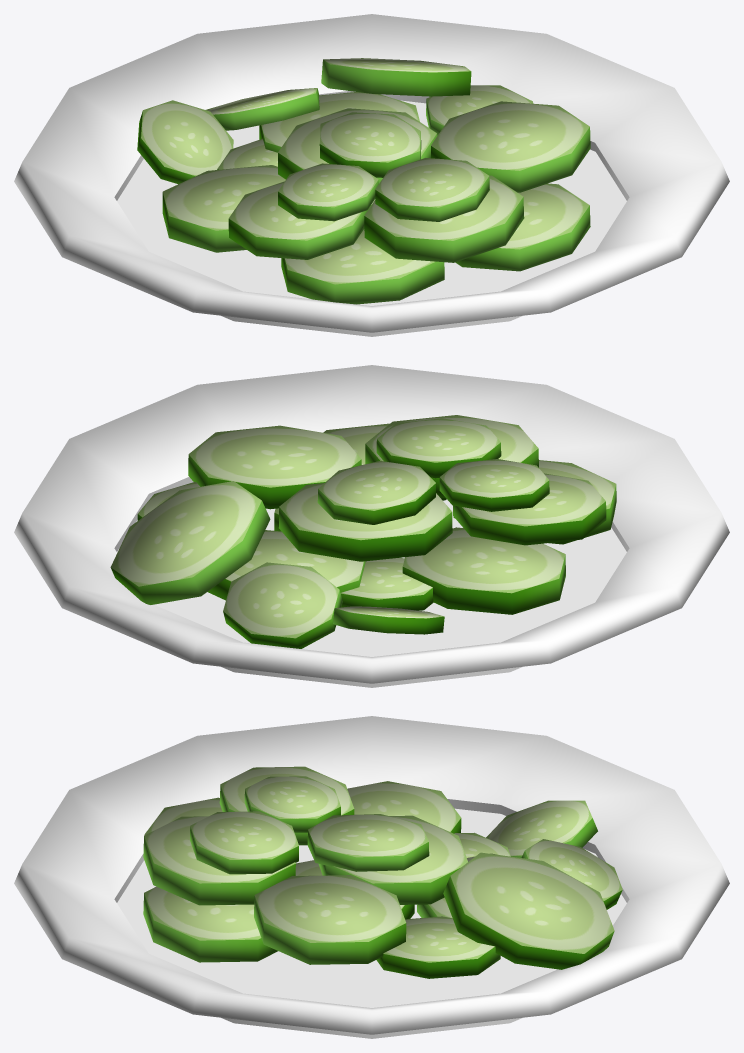
The model's file is CucumberSalad.fbx.
3 renders of one model, top to bottom at view 1: azimuth 30°, elevation 25°; view 2: azimuth 150°, elevation 25°; view 3: azimuth 270°, elevation 25°, orthographic.
Parts seen in each view (by area): view 1: CucumberSaladPlate, CucumberSalad.009, CucumberSalad.005, CucumberSalad.001, CucumberSalad.002, CucumberSalad.008, CucumberSalad.004, CucumberSalad.014, CucumberSalad.010, CucumberSalad.011, CucumberSalad.032, CucumberSalad.012 (+5 smaller); view 2: CucumberSaladPlate, CucumberSalad.032, CucumberSalad.002, CucumberSalad.009, CucumberSalad.033, CucumberSalad.006, CucumberSalad.008, CucumberSalad.011, CucumberSalad.010, CucumberSalad.012, CucumberSalad.003, CucumberSalad.013 (+5 smaller); view 3: CucumberSaladPlate, CucumberSalad.032, CucumberSalad.009, CucumberSalad.004, CucumberSalad.005, CucumberSalad.011, CucumberSalad.010, CucumberSalad.007, CucumberSalad.006, CucumberSalad.014, CucumberSalad.012, CucumberSalad.002 (+6 smaller).
Part boxes in pixels (<box>): CucumberSaladPlate: <box>14,14,729,336</box>; CucumberSalad.009: <box>431,101,590,192</box>; CucumberSalad.005: <box>364,175,524,262</box>; CucumberSalad.001: <box>281,229,444,304</box>; CucumberSalad.002: <box>162,165,285,252</box>; CucumberSalad.008: <box>228,181,369,259</box>; CucumberSalad.004: <box>455,183,590,271</box>; CucumberSalad.014: <box>137,100,233,184</box>; CucumberSalad.010: <box>375,158,489,221</box>; CucumberSalad.011: <box>319,112,421,177</box>; CucumberSalad.032: <box>321,58,471,96</box>; CucumberSalad.012: <box>278,163,378,221</box>; CucumberSaladPlate: <box>14,365,729,687</box>; CucumberSalad.032: <box>110,481,270,604</box>; CucumberSalad.002: <box>402,527,565,614</box>; CucumberSalad.009: <box>188,425,361,509</box>; CucumberSalad.033: <box>223,562,342,648</box>; CucumberSalad.006: <box>278,483,452,561</box>; CucumberSalad.008: <box>453,473,606,545</box>; CucumberSalad.011: <box>317,461,435,524</box>; CucumberSalad.010: <box>376,418,501,478</box>; CucumberSalad.012: <box>439,459,549,511</box>; CucumberSalad.003: <box>207,530,365,600</box>; CucumberSalad.013: <box>340,557,433,610</box>; CucumberSaladPlate: <box>14,716,729,1038</box>; CucumberSalad.032: <box>443,852,614,969</box>; CucumberSalad.009: <box>254,875,406,964</box>; CucumberSalad.004: <box>143,886,277,962</box>; CucumberSalad.005: <box>143,816,295,905</box>; CucumberSalad.011: <box>307,814,429,871</box>; CucumberSalad.010: <box>190,811,298,874</box>; CucumberSalad.007: <box>376,916,500,978</box>; CucumberSalad.006: <box>318,815,467,904</box>; CucumberSalad.014: <box>486,800,597,857</box>; CucumberSalad.012: <box>244,776,340,832</box>; CucumberSalad.002: <box>347,781,461,833</box>.
Bounding box in the file's own units: 0.6132 × 0.0916 × 0.6132.
Materials: 3 (3 with a texture image).
